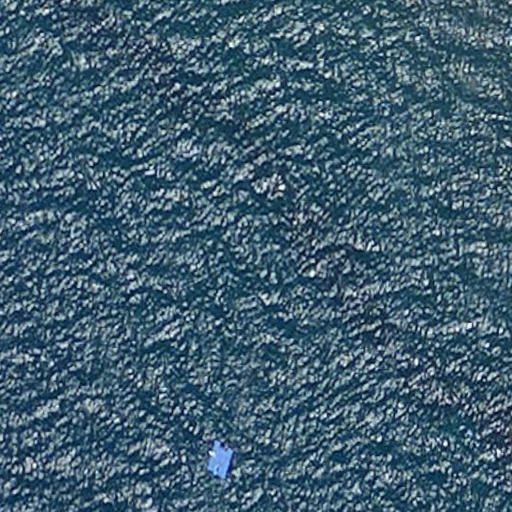ship: (205, 439, 235, 482)
